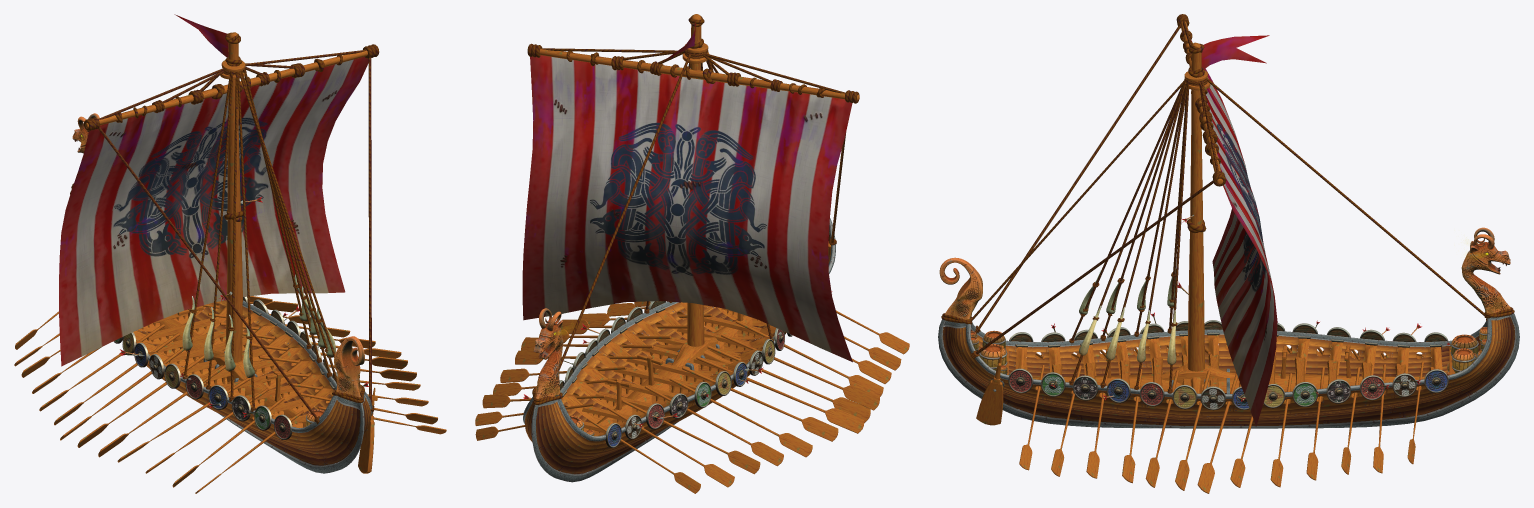
The model's file is viking_ship-transformed.glb.
3 views of the same model, side by side, from view 1: azimuth 30°, elevation 25°; view 2: azimuth 150°, elevation 25°; view 3: azimuth 270°, elevation 25° (orthographic).
Visible parts, largest first — view 1: ship_sail1_0, ship_trimsheet_0, ship_woodplanks_0, ship_stuff_0, ship_shields_0; view 2: ship_sail1_0, ship_trimsheet_0, ship_woodplanks_0, ship_shields_0, ship_stuff_0; view 3: ship_trimsheet_0, ship_woodplanks_0, ship_sail1_0, ship_shields_0, ship_stuff_0.
Part boxes in pixels (bbox=[...]): ship_sail1_0: bbox=[59, 14, 368, 366]; ship_trimsheet_0: bbox=[14, 32, 446, 493]; ship_woodplanks_0: bbox=[134, 300, 371, 465]; ship_stuff_0: bbox=[72, 113, 368, 426]; ship_shields_0: bbox=[114, 296, 337, 439]; ship_sail1_0: bbox=[522, 22, 852, 362]; ship_trimsheet_0: bbox=[475, 14, 909, 493]; ship_woodplanks_0: bbox=[525, 231, 830, 474]; ship_shields_0: bbox=[559, 301, 792, 447]; ship_stuff_0: bbox=[523, 291, 832, 435]; ship_trimsheet_0: bbox=[938, 14, 1519, 493]; ship_woodplanks_0: bbox=[942, 317, 1515, 425]; ship_sail1_0: bbox=[1191, 35, 1277, 426]; ship_shields_0: bbox=[1008, 320, 1448, 410]; ship_stuff_0: bbox=[939, 214, 1510, 401].
Size of the model in its own units: 12.86 by 14 by 19.19.
6 materials, 6 textured.
